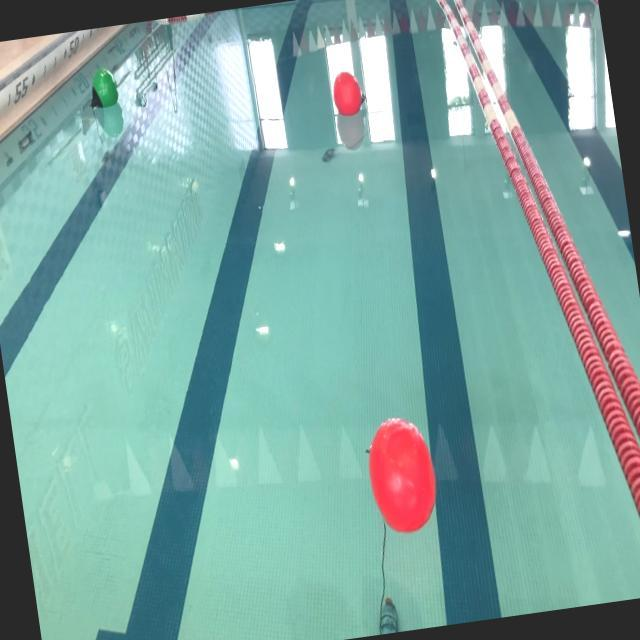buoy: (361, 408, 442, 536), (330, 70, 366, 120), (86, 70, 120, 113)
